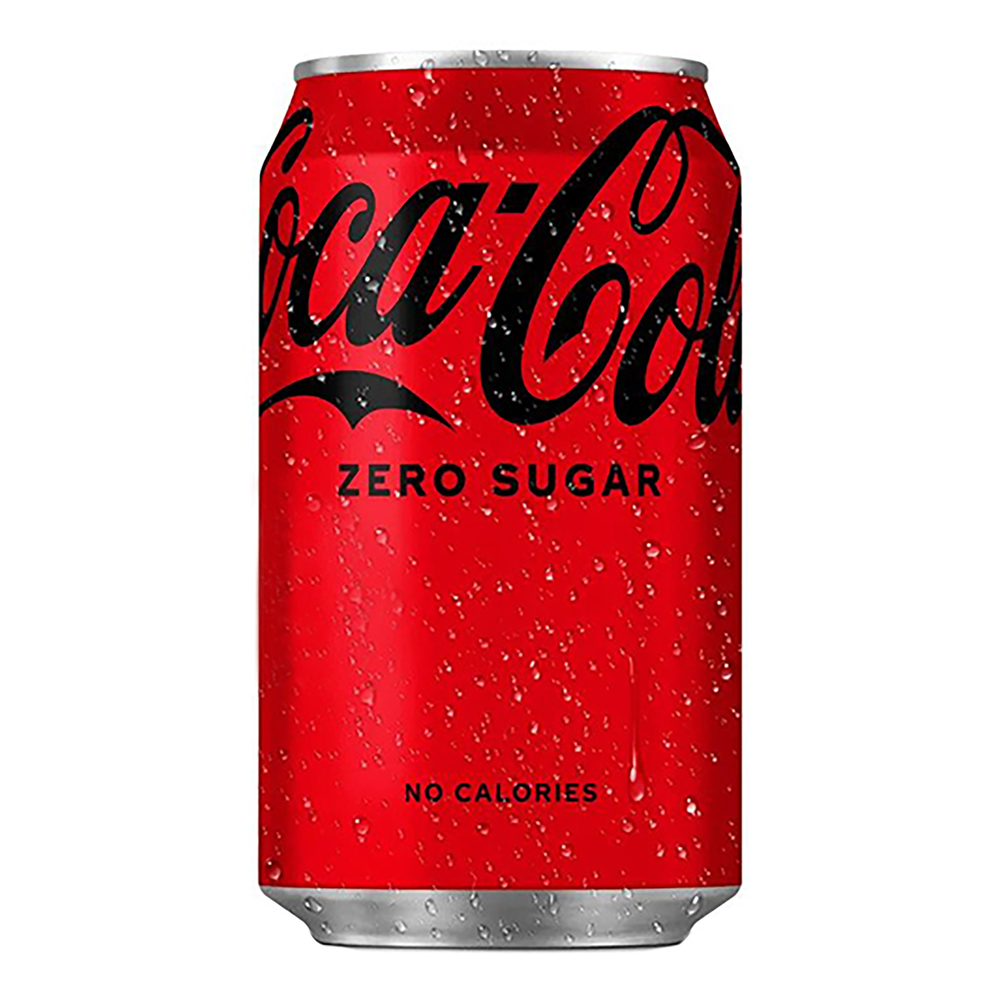can: (243, 37, 762, 972)
